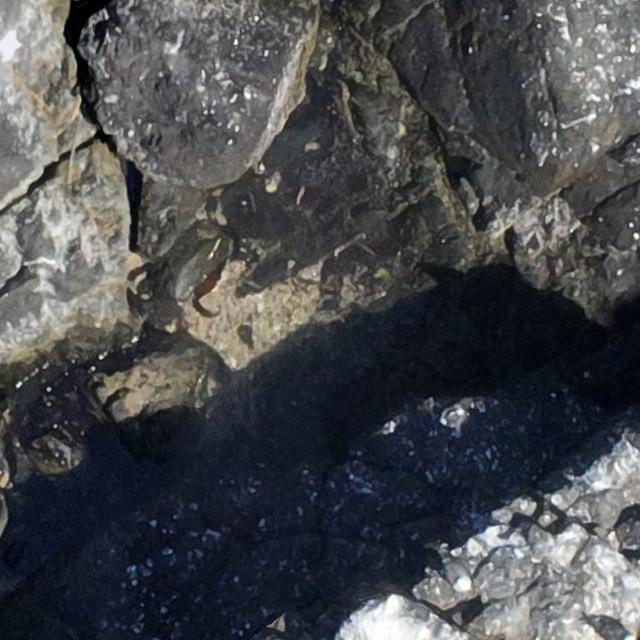umineko: (596, 620, 633, 640)
